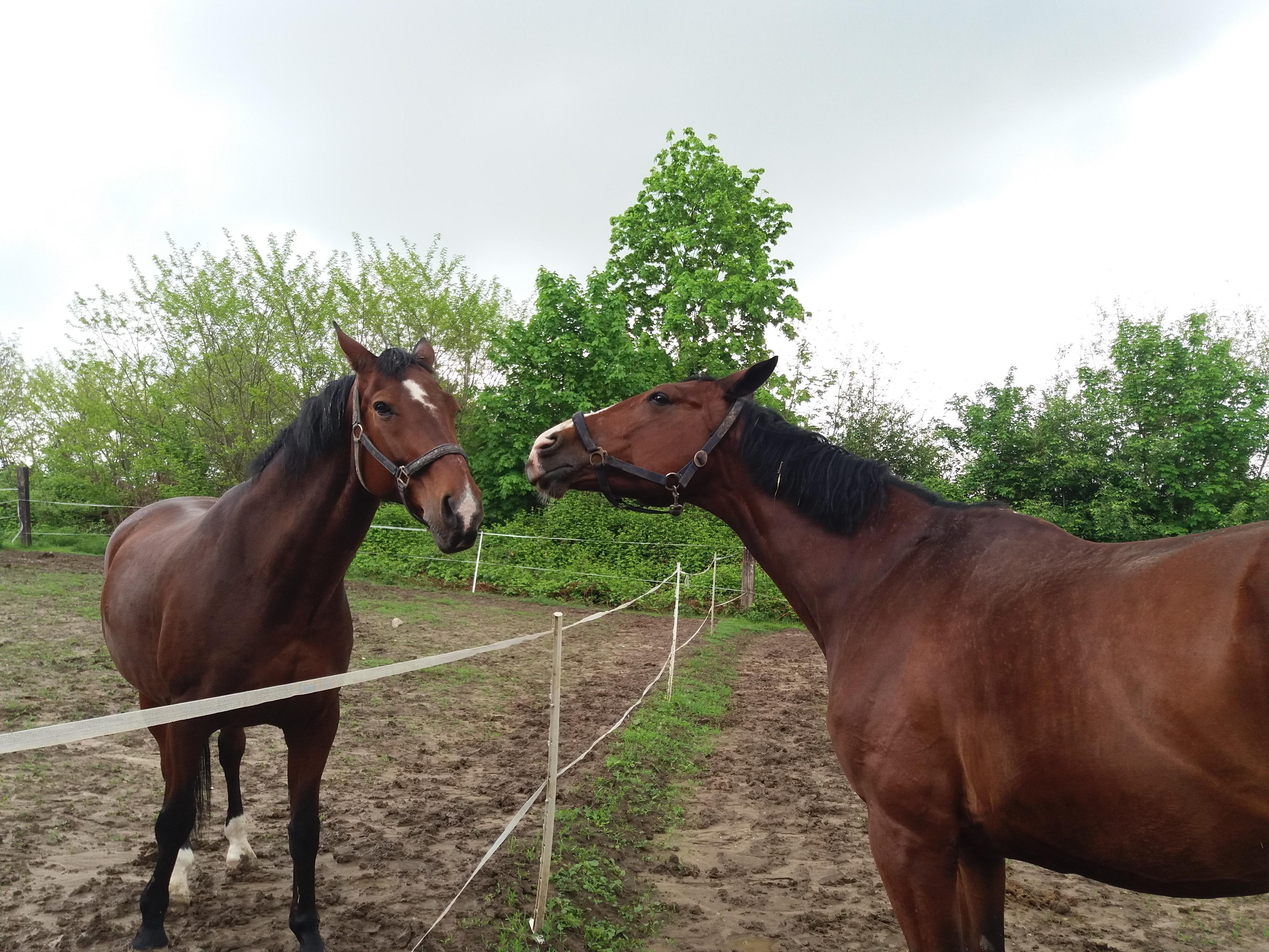horse: (524, 354, 1268, 951), (99, 319, 484, 951)
